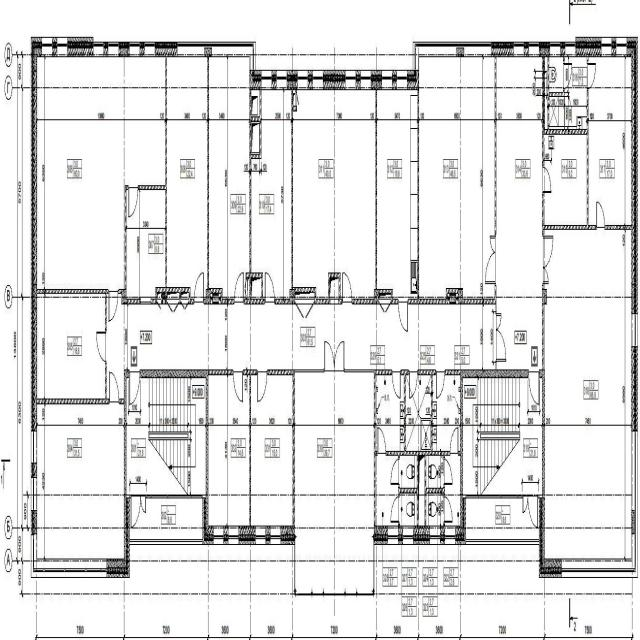Bathrooms: (376, 377, 404, 450), (433, 376, 460, 451), (407, 377, 431, 450), (566, 58, 586, 127), (400, 457, 417, 488), (400, 495, 417, 526), (426, 496, 443, 526), (426, 456, 443, 486), (549, 57, 563, 91)
Corridors: (128, 305, 496, 368), (497, 58, 542, 367), (589, 58, 631, 222), (127, 190, 165, 296), (130, 499, 202, 539), (467, 501, 539, 540), (107, 298, 123, 399), (377, 457, 398, 524), (445, 456, 460, 523), (330, 281, 338, 296)
Doors: (323, 339, 344, 374), (484, 235, 497, 287), (522, 494, 539, 531), (131, 494, 146, 533), (295, 294, 315, 322), (543, 235, 554, 285), (496, 312, 506, 362), (528, 368, 540, 407), (95, 329, 107, 366), (129, 368, 140, 406), (108, 289, 119, 325), (109, 370, 120, 405), (257, 368, 268, 403), (128, 183, 138, 220), (398, 296, 408, 333), (233, 368, 243, 404), (194, 269, 204, 304), (234, 270, 244, 305), (342, 271, 352, 305), (265, 271, 275, 303), (377, 424, 387, 456), (443, 496, 454, 524), (444, 458, 454, 488), (166, 294, 179, 317), (390, 495, 400, 524), (390, 457, 400, 486), (392, 369, 401, 400), (409, 371, 418, 402), (436, 371, 445, 401), (596, 200, 605, 230), (379, 294, 391, 316), (542, 166, 551, 195), (587, 62, 596, 90), (124, 305, 128, 368), (450, 425, 458, 455), (563, 63, 572, 89), (180, 294, 189, 311), (564, 97, 568, 129), (294, 90, 300, 107), (244, 279, 249, 298), (140, 297, 151, 305), (157, 293, 161, 312), (330, 297, 338, 304)
LBwalls: (31, 37, 42, 430), (627, 35, 638, 314), (107, 497, 130, 580), (539, 497, 562, 579), (202, 495, 214, 547), (631, 346, 638, 432), (455, 495, 466, 547), (575, 37, 602, 58), (68, 37, 93, 58), (323, 70, 345, 91), (155, 41, 177, 57), (238, 526, 255, 546), (413, 526, 430, 546), (492, 42, 513, 57), (446, 287, 463, 304), (373, 527, 388, 544), (281, 526, 295, 544), (407, 70, 419, 90), (249, 71, 261, 89), (287, 70, 298, 89), (371, 70, 382, 89), (539, 40, 550, 56), (119, 40, 129, 57), (631, 510, 637, 535), (203, 44, 213, 59), (31, 511, 37, 535), (355, 69, 361, 91), (30, 463, 37, 479), (308, 69, 313, 91), (392, 69, 397, 90), (265, 525, 270, 546), (560, 40, 566, 57), (398, 526, 403, 546), (52, 37, 57, 57), (457, 43, 464, 57), (440, 527, 445, 546), (272, 70, 277, 89), (206, 287, 211, 305), (612, 35, 616, 57), (140, 40, 145, 57), (374, 288, 379, 305), (290, 289, 295, 306), (542, 288, 547, 304), (224, 526, 228, 544), (122, 288, 126, 306), (524, 42, 529, 56), (104, 41, 108, 57)
Offices: (37, 57, 165, 288), (545, 231, 631, 558), (419, 57, 495, 297), (295, 375, 374, 592), (293, 91, 375, 297), (37, 406, 124, 557), (167, 57, 207, 299), (209, 57, 249, 299), (377, 90, 417, 297), (252, 90, 292, 296), (37, 294, 105, 398), (209, 377, 249, 524), (252, 377, 292, 524), (545, 136, 586, 222)
Stairs: (126, 379, 206, 494), (464, 380, 541, 495)
Walls: (138, 57, 194, 307), (140, 368, 234, 495), (291, 89, 343, 305), (445, 368, 528, 495), (385, 368, 451, 526), (542, 57, 596, 235), (408, 91, 446, 305), (266, 368, 295, 526), (244, 89, 265, 305), (294, 545, 375, 597), (37, 287, 109, 332), (37, 362, 110, 406), (374, 368, 392, 526), (243, 368, 257, 525), (119, 368, 129, 497), (539, 303, 545, 497), (462, 284, 497, 305), (466, 539, 539, 546), (207, 56, 209, 287), (211, 287, 234, 307), (130, 540, 202, 546), (125, 184, 129, 290), (375, 90, 377, 290), (379, 288, 398, 305), (466, 494, 523, 499), (146, 495, 203, 499), (605, 224, 631, 231), (495, 57, 496, 236), (352, 298, 374, 305), (345, 368, 374, 373), (127, 296, 141, 305), (295, 369, 324, 373), (274, 298, 290, 304), (119, 289, 122, 296), (542, 284, 544, 290), (587, 57, 588, 65), (563, 57, 564, 63)
Windows: (31, 534, 107, 578), (562, 535, 638, 578), (177, 42, 256, 71), (413, 41, 456, 71), (631, 431, 638, 510), (464, 42, 492, 57), (631, 314, 638, 347), (298, 69, 308, 91), (616, 37, 627, 57), (42, 37, 53, 57), (57, 37, 68, 57), (361, 70, 371, 91), (345, 70, 356, 89), (396, 71, 407, 90), (277, 70, 287, 90), (313, 70, 323, 90), (602, 36, 612, 56), (387, 526, 398, 544), (31, 478, 37, 510), (31, 431, 37, 463), (382, 70, 392, 89), (262, 69, 271, 89), (271, 526, 281, 544), (255, 526, 265, 544), (229, 526, 239, 544), (214, 526, 224, 544), (403, 526, 413, 544), (430, 526, 440, 544), (445, 527, 455, 545), (129, 41, 140, 57), (108, 42, 119, 57), (94, 41, 104, 57), (144, 43, 155, 57), (565, 42, 575, 57), (550, 42, 560, 57), (529, 42, 539, 57), (514, 42, 524, 57)
